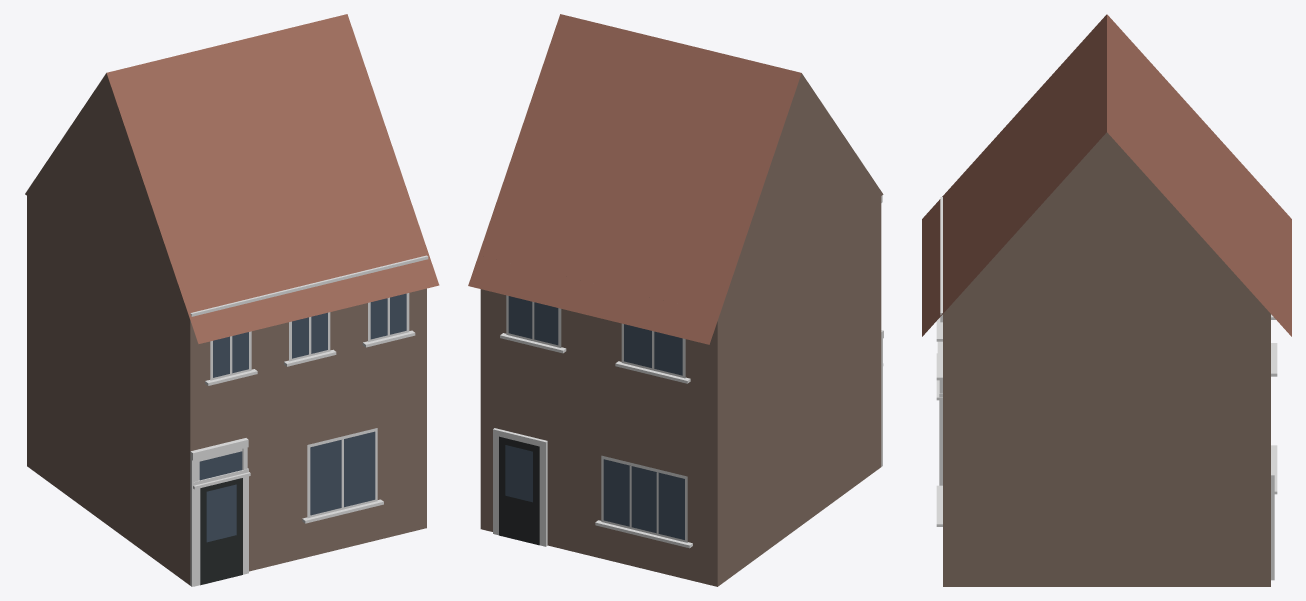
File: nn-row-small__small-grey__2__gable__long__solid__mid.glb
3 renders of one model, left to right at view 1: azimuth 30°, elevation 25°; view 2: azimuth 150°, elevation 25°; view 3: azimuth 270°, elevation 25°, orthographic.
Visible parts, largest first — view 1: nn-row-small__small-grey__2__gable__long__solid__mid; view 2: nn-row-small__small-grey__2__gable__long__solid__mid; view 3: nn-row-small__small-grey__2__gable__long__solid__mid.
Boxes of the visible parts, x1,y1,x2,y2 form: nn-row-small__small-grey__2__gable__long__solid__mid: (25, 14, 439, 586); nn-row-small__small-grey__2__gable__long__solid__mid: (468, 14, 883, 586); nn-row-small__small-grey__2__gable__long__solid__mid: (922, 14, 1291, 586).
Size of the model in its own units: 5.36 by 9.65 by 7.09.
